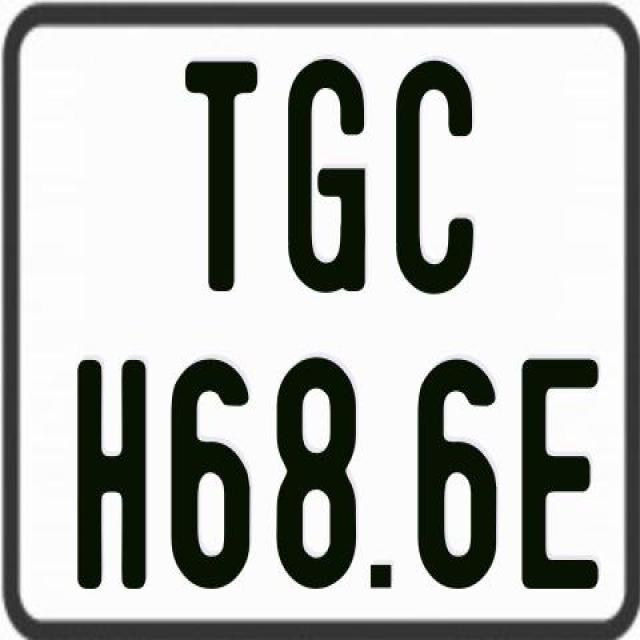6: (414, 356, 498, 594), (167, 356, 250, 594)
8: (272, 357, 360, 597)
C: (393, 56, 472, 299)
E: (520, 356, 602, 594)
G: (286, 59, 364, 301)
H: (76, 357, 145, 596)
T: (184, 58, 258, 288)
